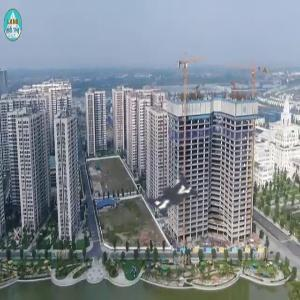drone: (107, 130, 235, 258)
